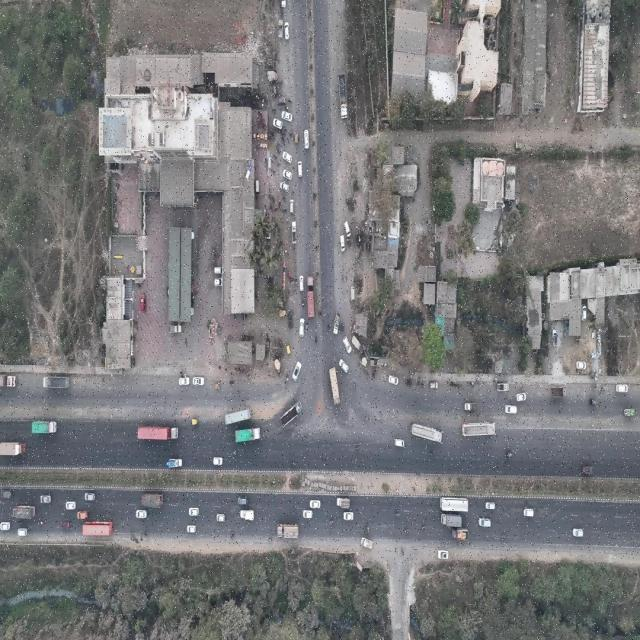3W: (286, 309, 294, 318), (288, 318, 294, 330), (589, 399, 597, 406), (505, 450, 512, 458), (279, 309, 286, 317), (286, 342, 290, 356), (192, 418, 199, 426), (341, 322, 344, 335), (406, 380, 412, 386)
Bus: (409, 421, 444, 446), (328, 367, 342, 408), (224, 406, 252, 426), (440, 496, 469, 513), (462, 423, 497, 437), (82, 522, 114, 536)
Cars: (292, 359, 302, 382), (504, 403, 518, 415), (178, 374, 190, 387), (478, 516, 491, 528), (281, 109, 293, 122), (282, 168, 293, 182), (343, 335, 351, 354), (282, 150, 293, 163), (273, 117, 283, 131), (303, 129, 310, 149), (576, 359, 587, 371), (615, 383, 628, 393), (339, 358, 348, 372), (140, 295, 147, 313), (1, 488, 12, 499), (136, 509, 147, 520), (438, 549, 449, 560), (310, 500, 322, 510), (388, 374, 398, 386), (299, 317, 305, 337), (192, 376, 205, 385), (289, 197, 295, 216), (344, 219, 350, 238), (186, 524, 197, 534), (238, 495, 249, 505), (343, 511, 354, 521), (583, 465, 594, 475), (279, 182, 290, 192), (303, 508, 312, 520), (395, 437, 404, 449), (284, 22, 290, 40), (297, 160, 303, 178), (0, 521, 10, 531), (85, 492, 95, 502), (213, 456, 223, 466), (485, 501, 495, 511), (524, 508, 534, 518), (573, 528, 583, 538), (516, 392, 526, 402), (76, 511, 88, 519), (66, 502, 76, 511), (189, 507, 199, 516), (217, 513, 226, 523), (61, 520, 71, 529), (581, 304, 586, 322), (299, 274, 304, 292), (552, 329, 557, 346), (340, 235, 345, 252), (40, 496, 52, 503), (17, 528, 27, 536), (276, 98, 287, 105), (214, 266, 223, 274), (214, 278, 223, 286), (429, 382, 438, 389)
LCV: (240, 509, 255, 522), (166, 323, 182, 335), (337, 497, 351, 510), (360, 538, 374, 550), (334, 310, 340, 337), (168, 458, 183, 468), (291, 221, 297, 244), (464, 403, 478, 411), (624, 408, 636, 417), (496, 384, 509, 392), (278, 19, 283, 39)
M2W: (352, 382, 358, 390), (301, 298, 305, 309), (314, 335, 318, 346), (501, 532, 506, 540), (306, 319, 309, 332), (143, 530, 149, 536), (230, 531, 236, 537), (394, 512, 400, 518), (232, 450, 238, 456), (37, 521, 44, 526), (364, 526, 371, 531), (404, 528, 409, 535), (327, 323, 331, 331), (318, 310, 322, 318), (17, 521, 23, 526), (421, 526, 426, 532), (355, 445, 361, 450), (429, 451, 434, 457), (291, 461, 297, 466), (329, 520, 334, 525), (267, 538, 273, 542)
MAV: (137, 426, 179, 440)
Truck: (280, 399, 302, 429), (337, 72, 349, 122), (306, 275, 316, 321), (235, 427, 262, 442), (32, 419, 57, 434), (440, 512, 463, 528), (0, 442, 26, 456), (43, 376, 70, 389), (13, 505, 36, 519), (141, 494, 164, 508), (278, 524, 299, 539), (452, 528, 469, 542), (550, 386, 568, 398)
